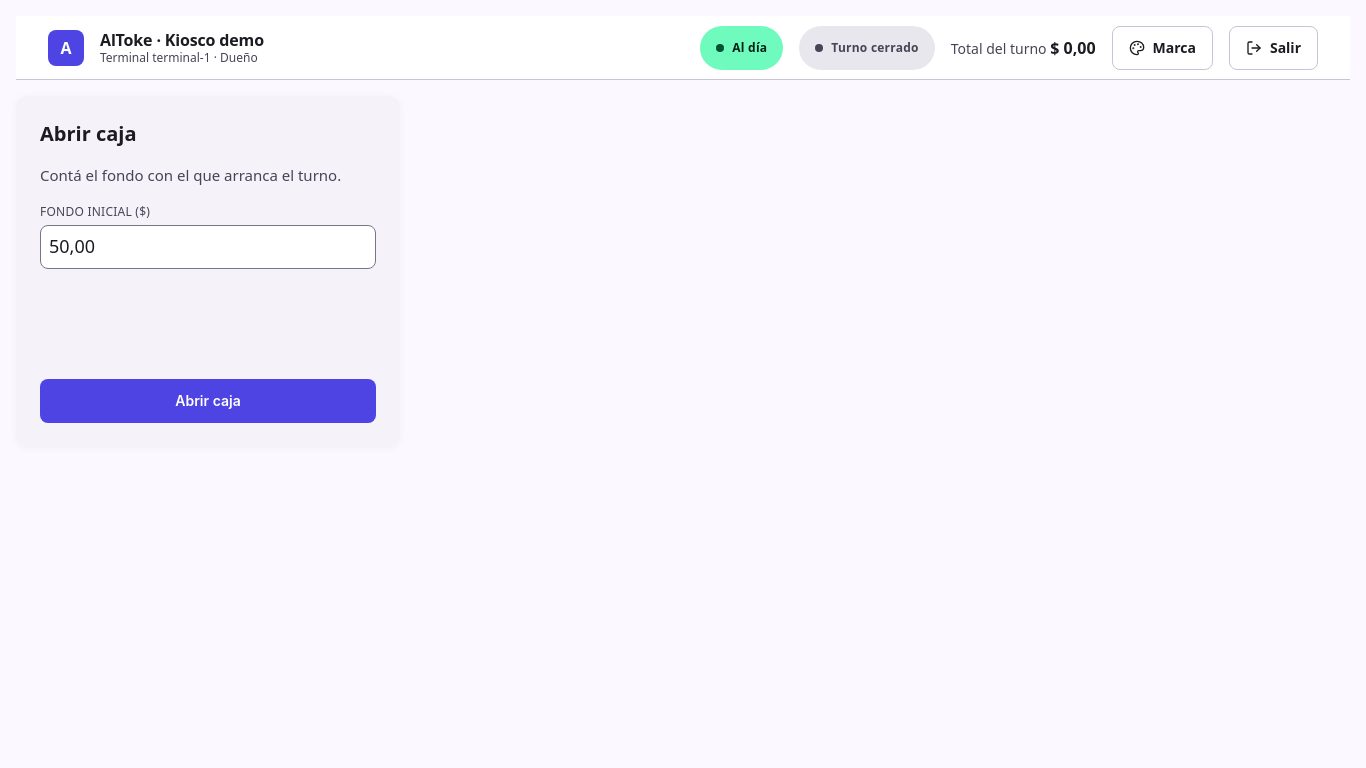
POS — cobrar e imprimir › Nueva venta vuelve a la bandeja y no deja el ticket en pantalla
Click the button "Abrir caja" at coordinates (208, 400), box [40, 378, 376, 422]
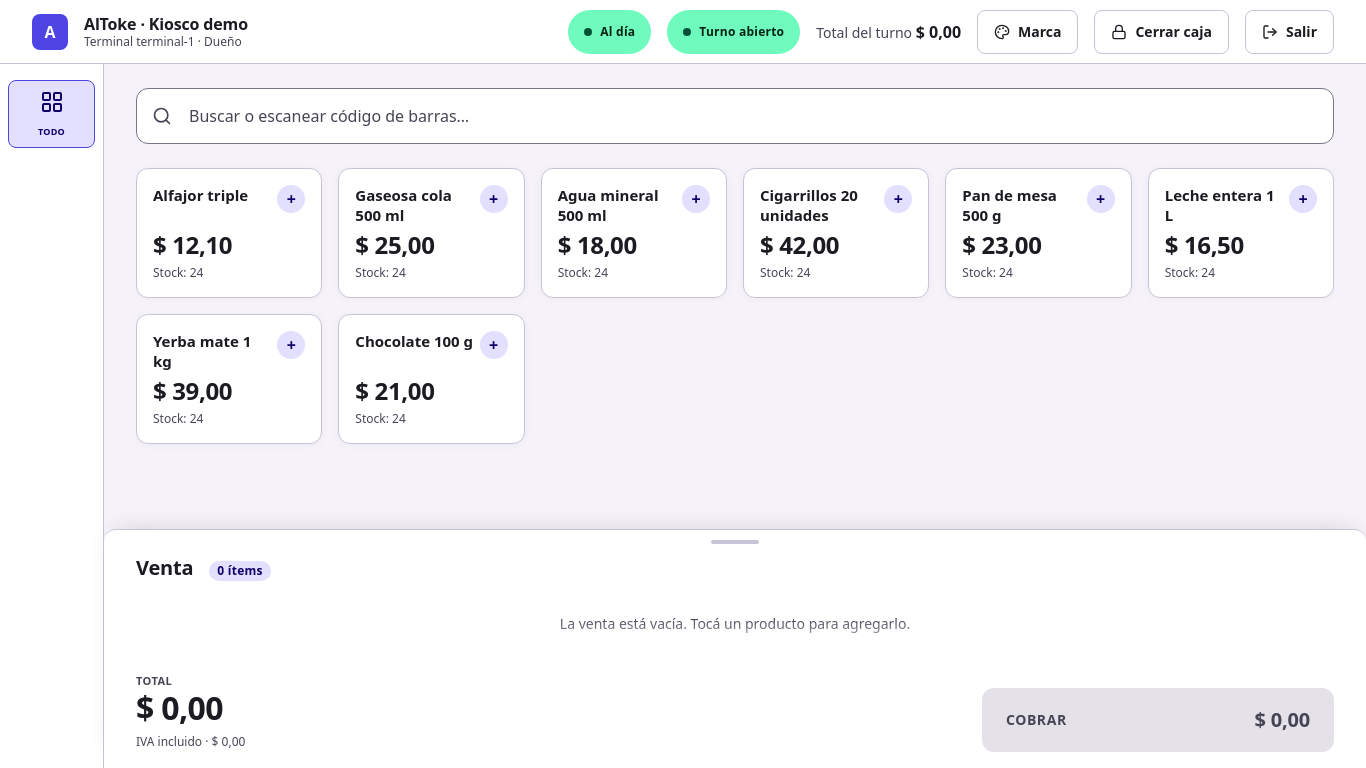
Expected: the text "Turno abierto" is shown, [667, 10, 800, 54]
Click the button "+ Alfajor triple $ 12,10 Stock: 24" at coordinates (229, 233), box [136, 168, 322, 298]
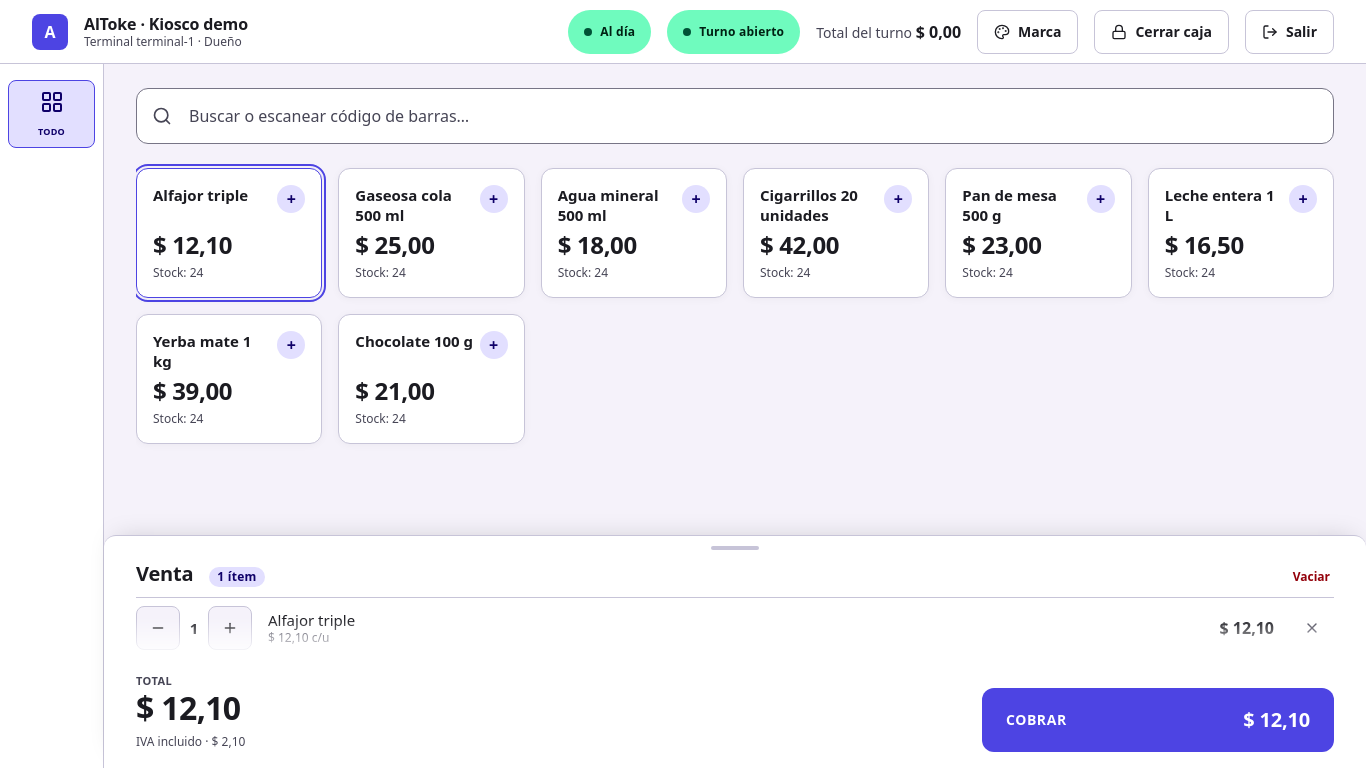
Click the button "Cobrar $ 12,10" at coordinates (1036, 720), box [982, 688, 1334, 752]
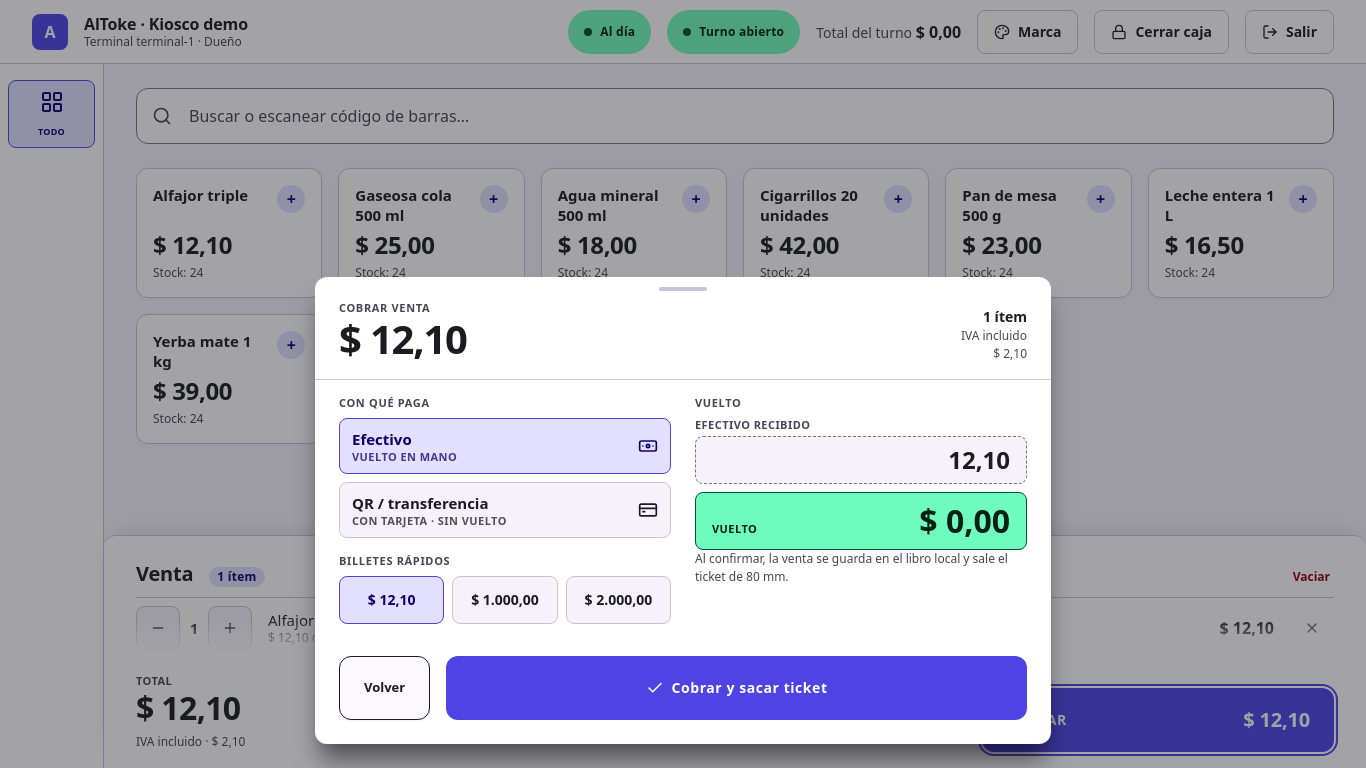
Click the button "Cobrar y sacar ticket" at coordinates (737, 688), box [446, 656, 1027, 720]
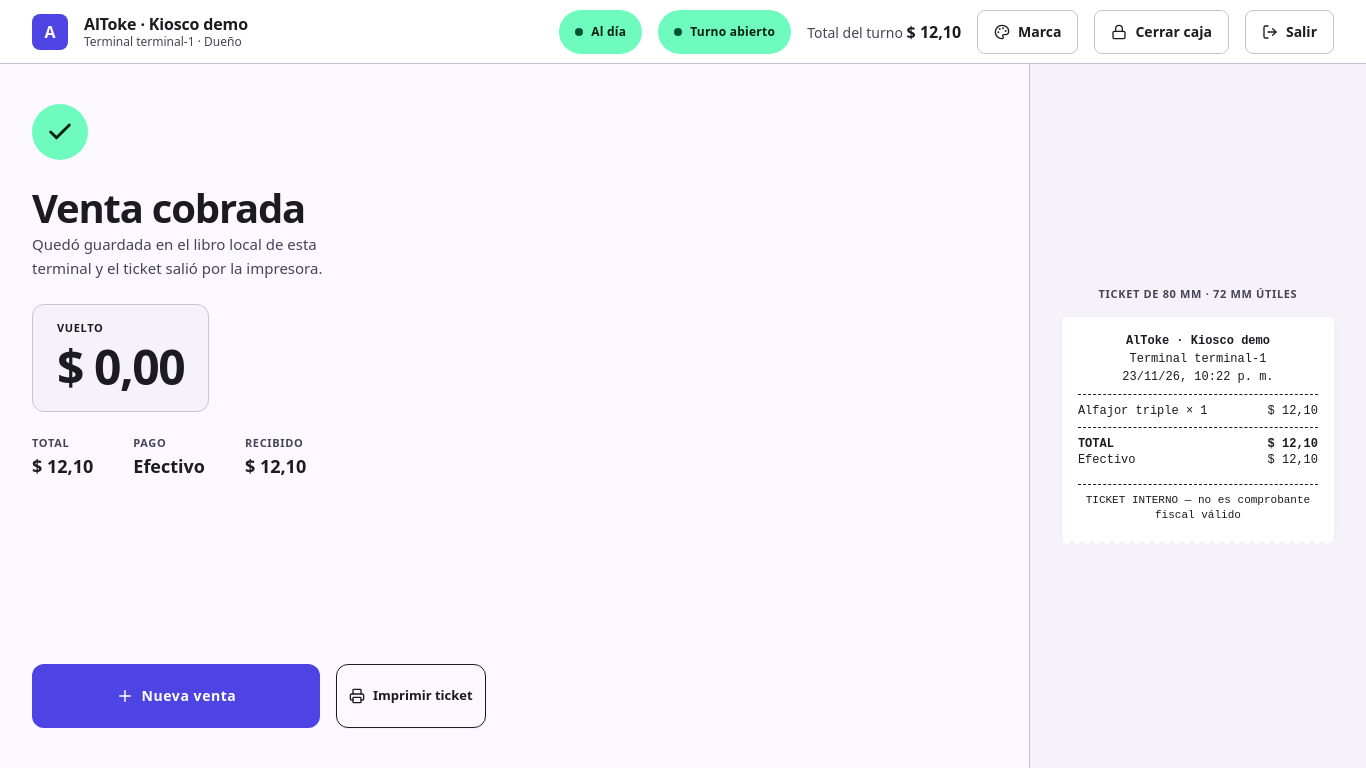
Click the button "Nueva venta" at coordinates (176, 696), box [32, 664, 320, 728]
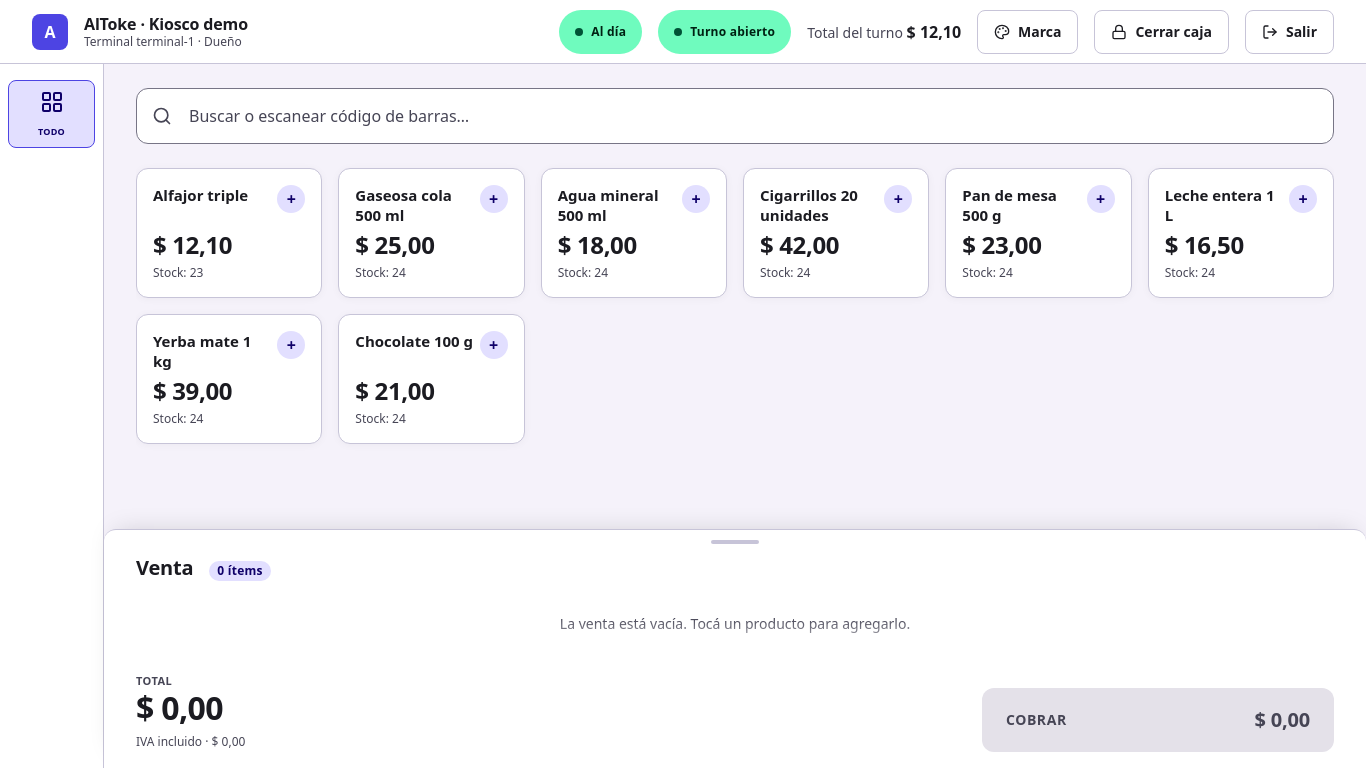
Expected: the button "Cobrar $ 0,00" is shown, [982, 688, 1334, 752]
Expected: the heading "Venta cobrada" is gone
